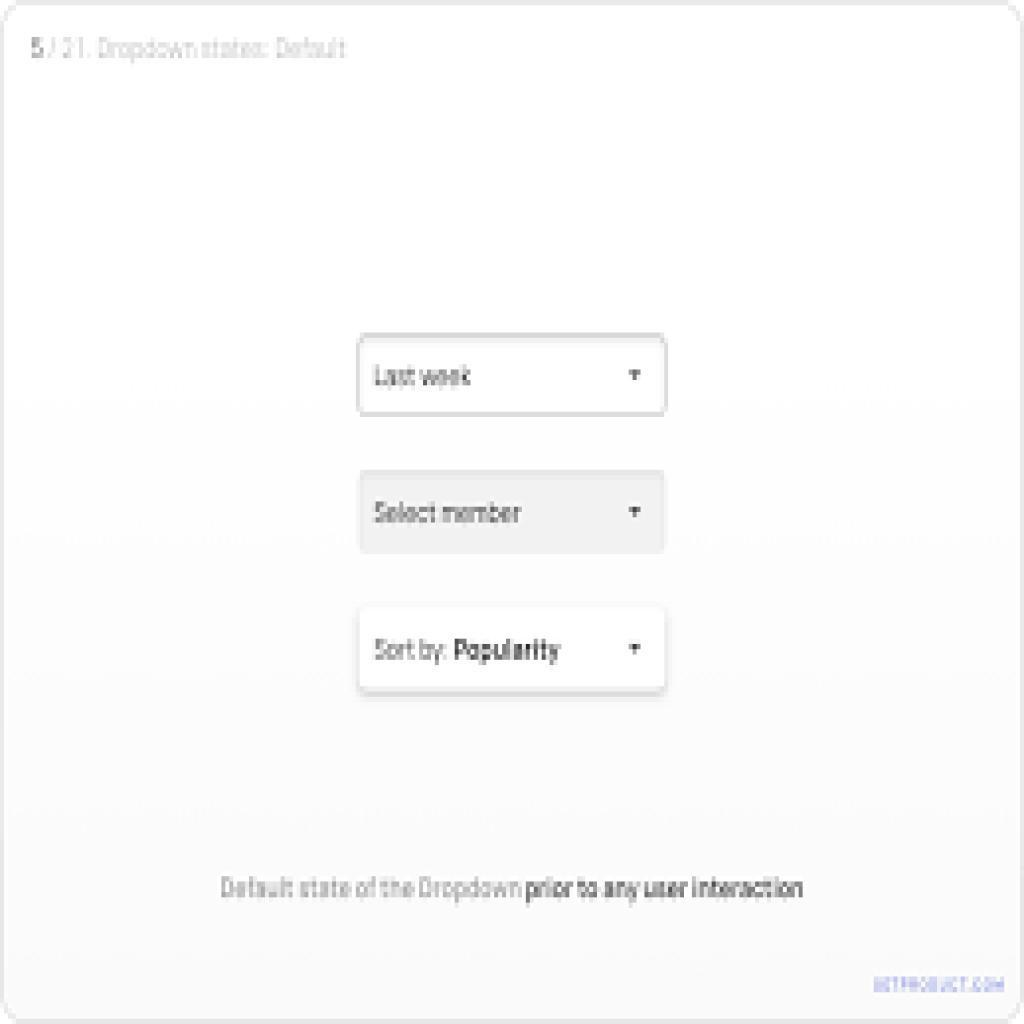dropdown: (358, 605, 669, 696), (356, 468, 669, 556), (356, 336, 671, 416)
